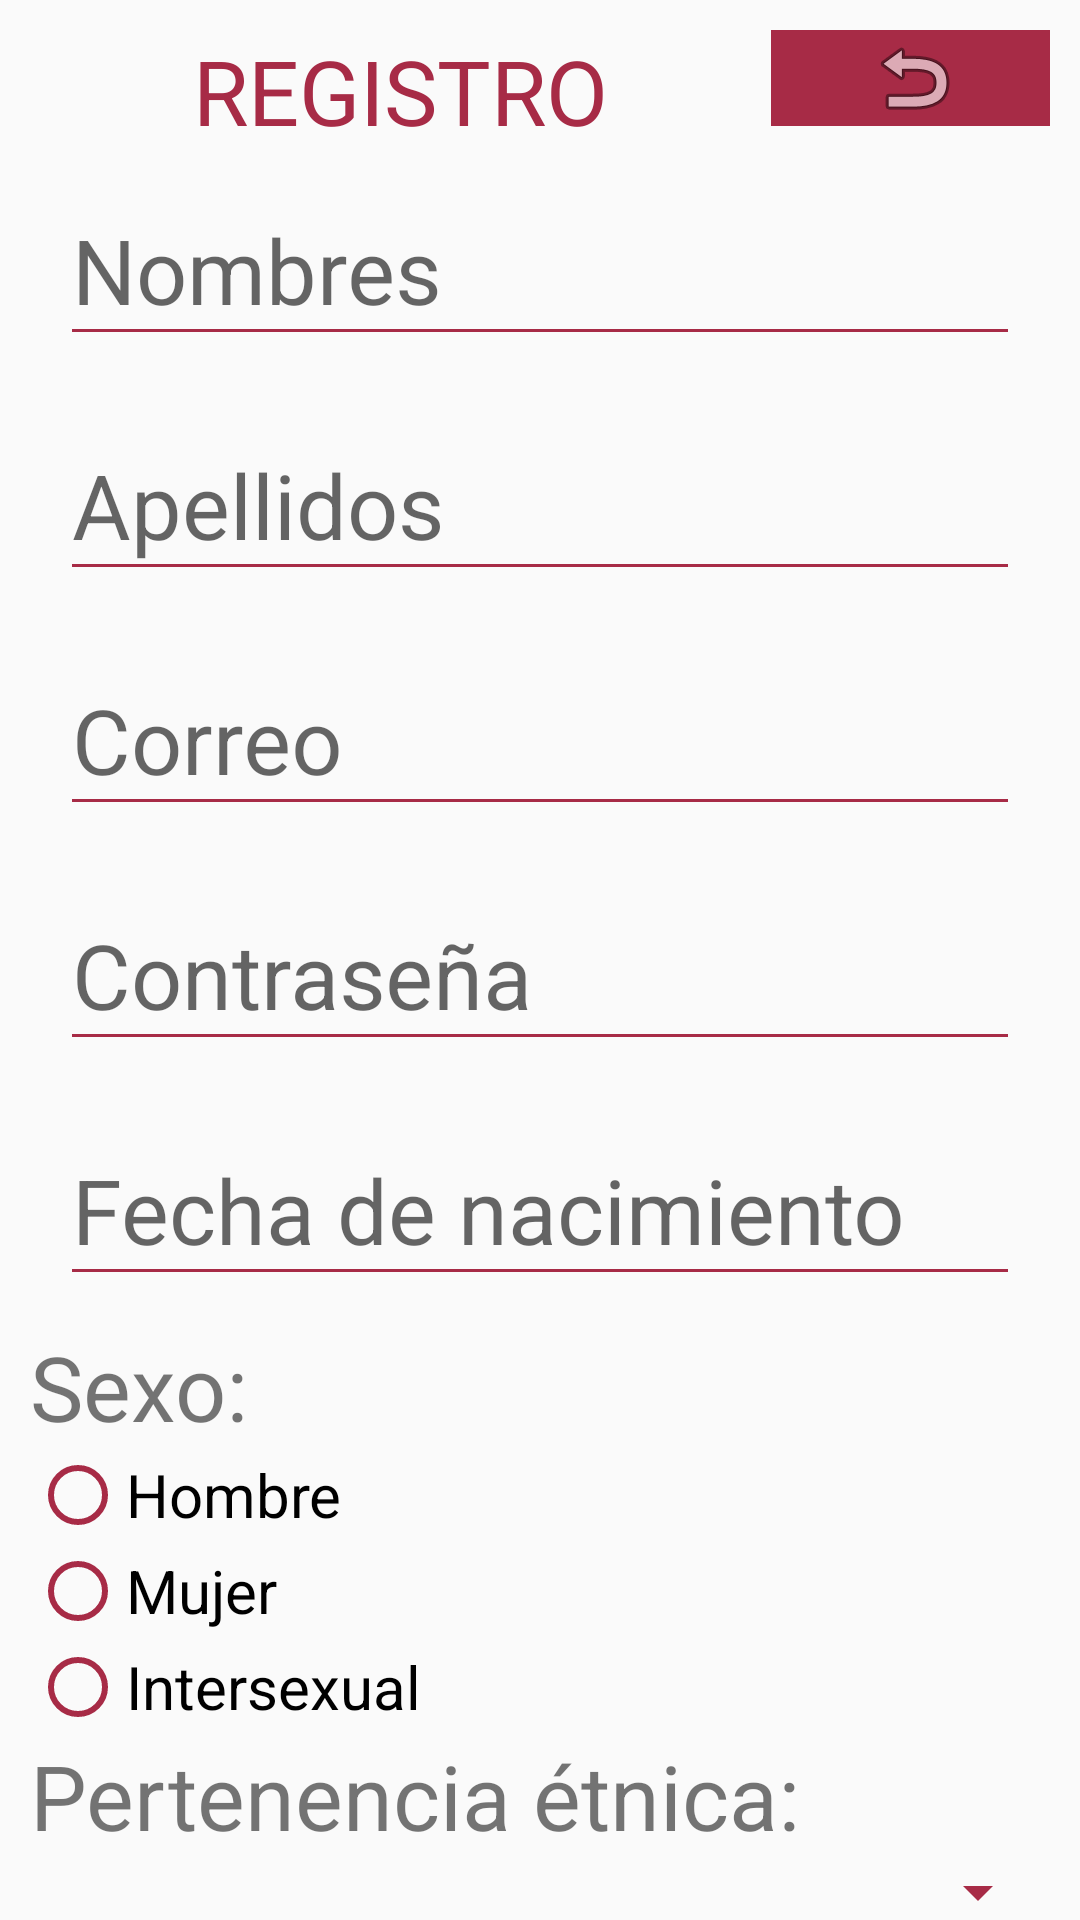

Named icons in this screenshot (1080w x 1920h) and their bounding boxes, (x1, y1, x2, y2):
revert: (771, 30, 1050, 126)
